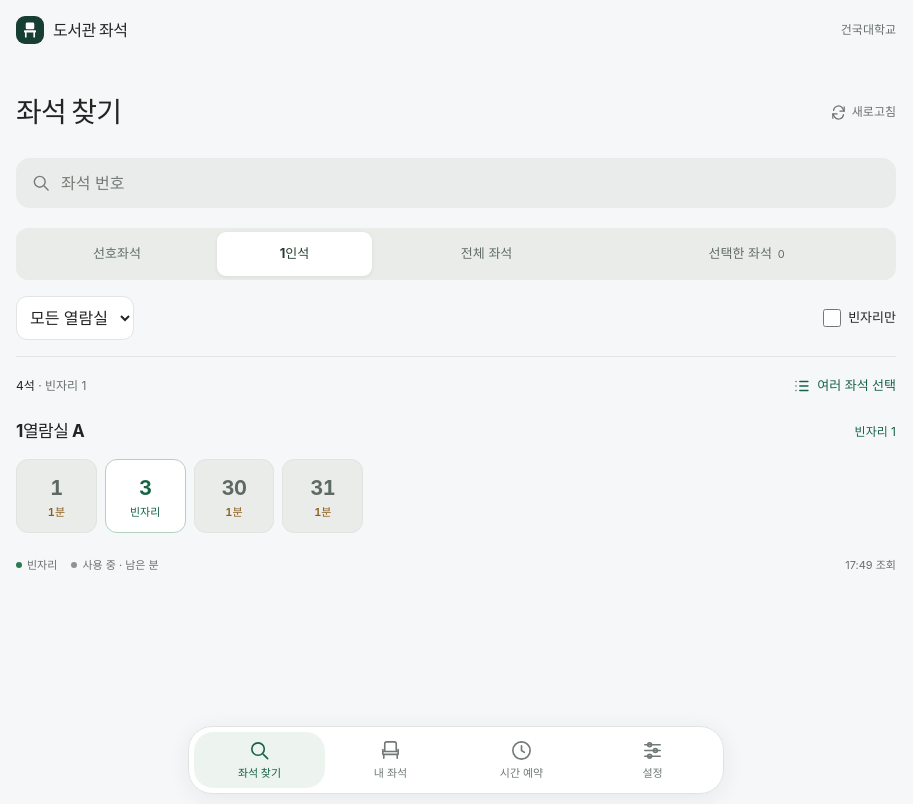
Scenario: React app with the existing account API › disables schedule registration outside the server registration window
Expected: the heading "좌석 찾기" is shown, [16,94,121,130]
Click the button "시간 예약": (522, 760) [456,732,587,788]
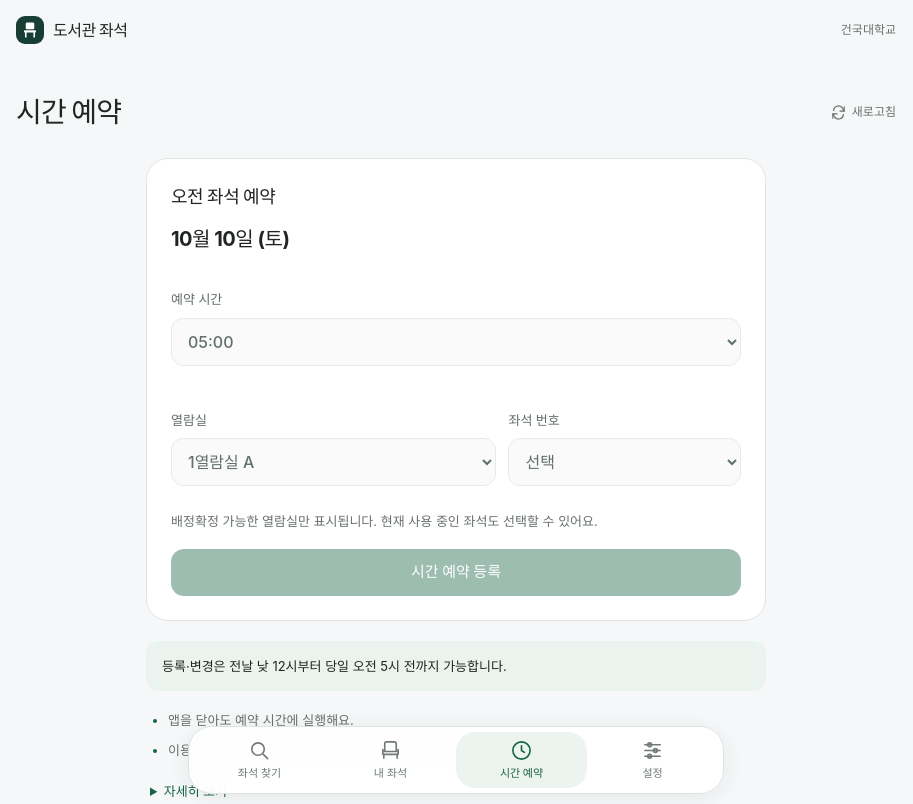
Result: the button "시간 예약 등록" is disabled at [171,549,741,596]
Result: the text "등록·변경은 전날 낮 12시부터 당일 오전 5시 전까지 가능합니다." is shown at [146,641,766,691]
